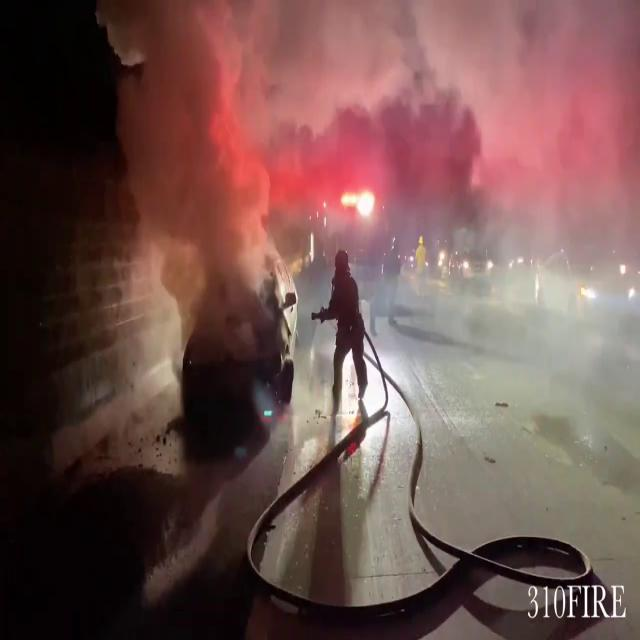Smoke: (80, 1, 640, 201), (89, 0, 283, 404)
